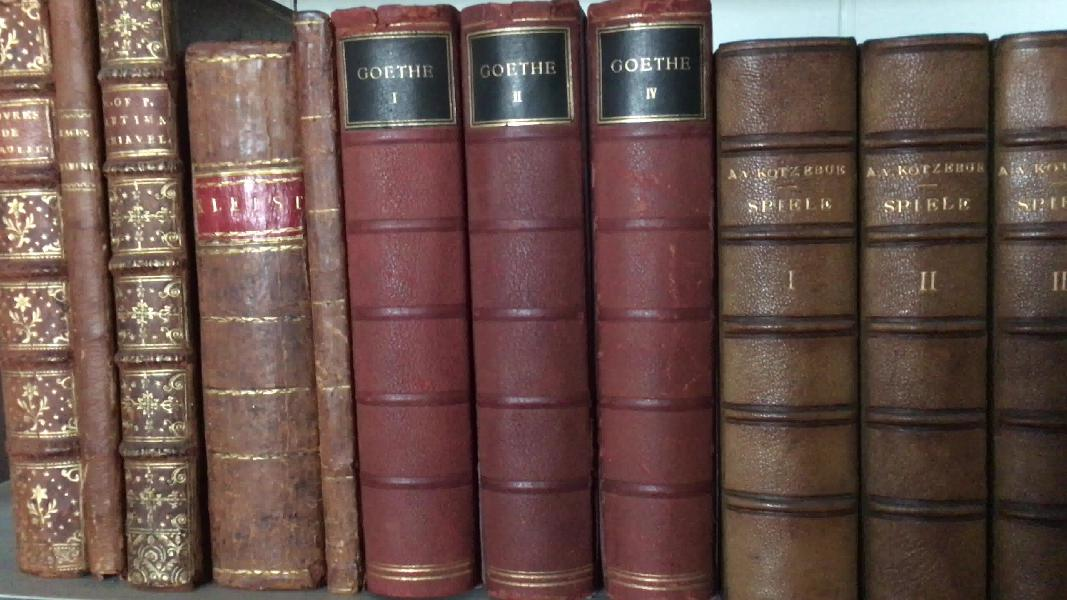Aa6-10: (294, 11, 377, 600)
Aa6-11_13: (336, 12, 724, 600)
Aa6-14_17: (713, 35, 1060, 600)
Aa6-6: (1, 1, 75, 570)
Aa6-7: (42, 5, 125, 584)
Aa6-8: (92, 8, 200, 590)
Aa6-9: (179, 38, 328, 594)
